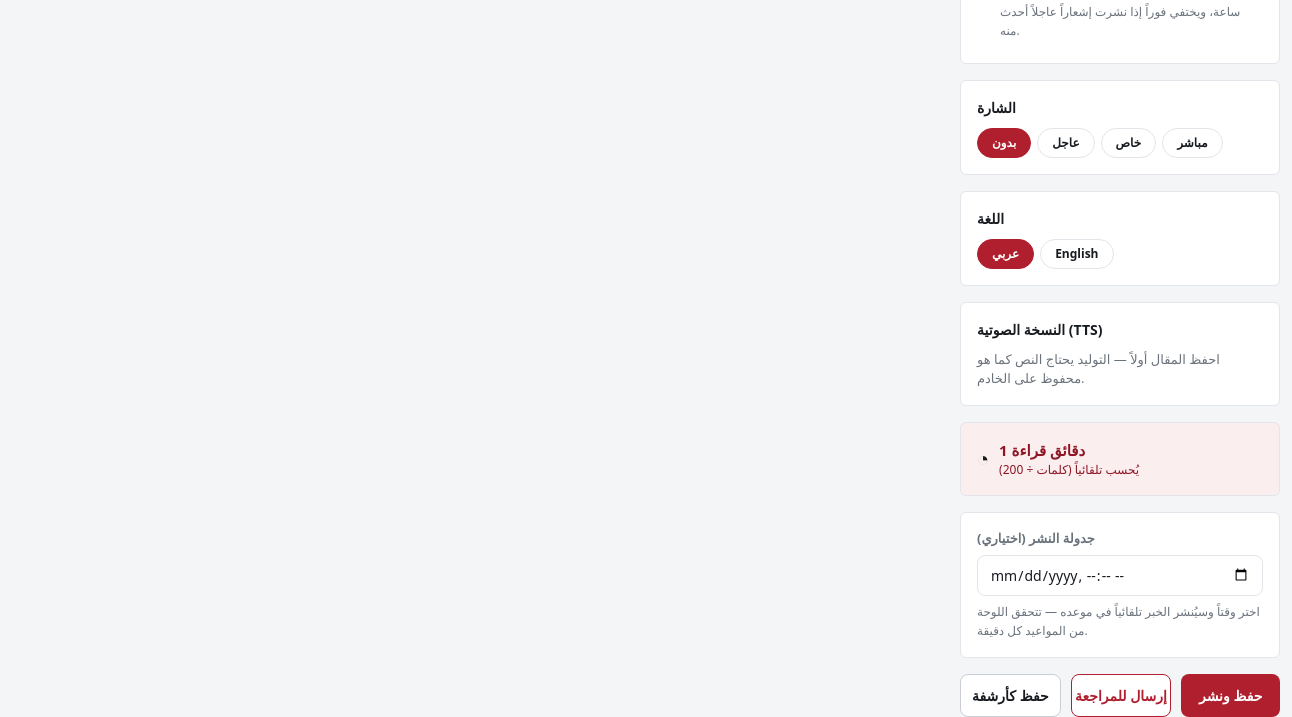
Test: ArticleEditorForm review › still requires a title, same as the other save paths
The image size is (1292, 717).
(page scrolled)
What coordinates should you click on to do the following:
click the button "إرسال للمراجعة"
I would click on:
 (1121, 695)
Its box is [1071,674,1171,716].
(page scrolled)
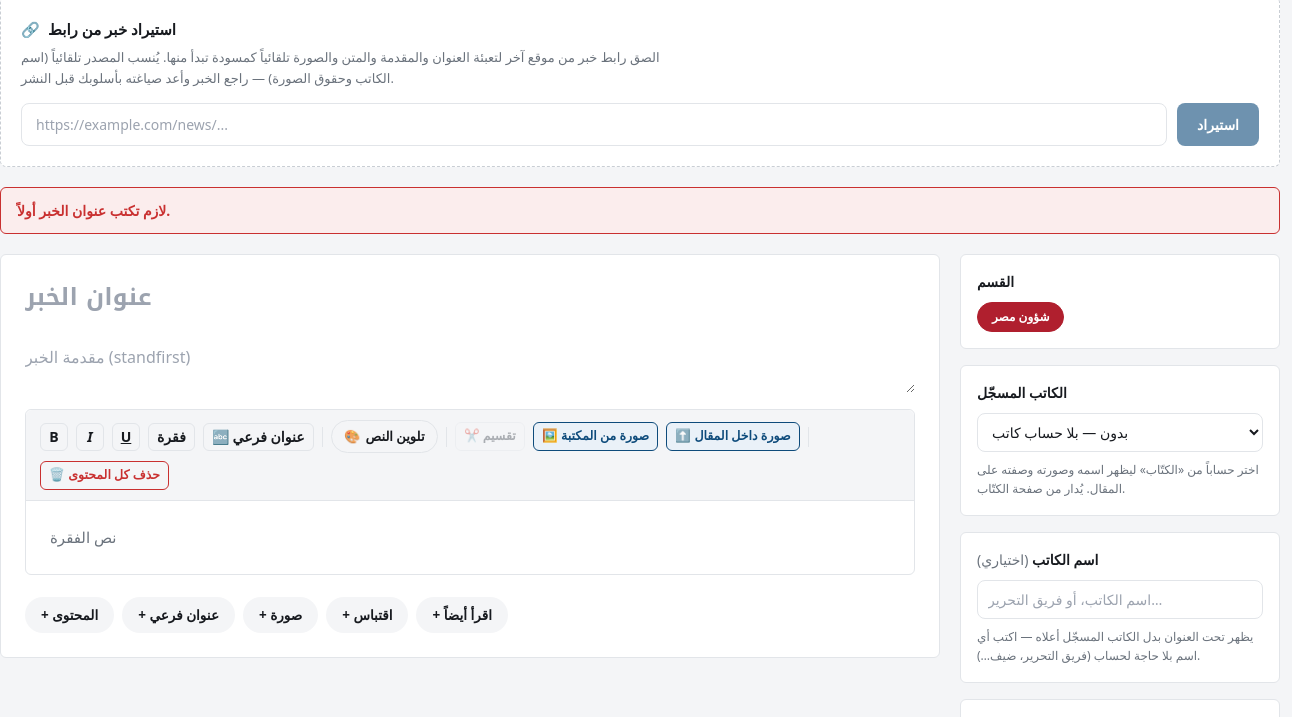
expect the message shows "لازم تكتب عنوان الخبر أولاً": met, box [17,201,170,220]
